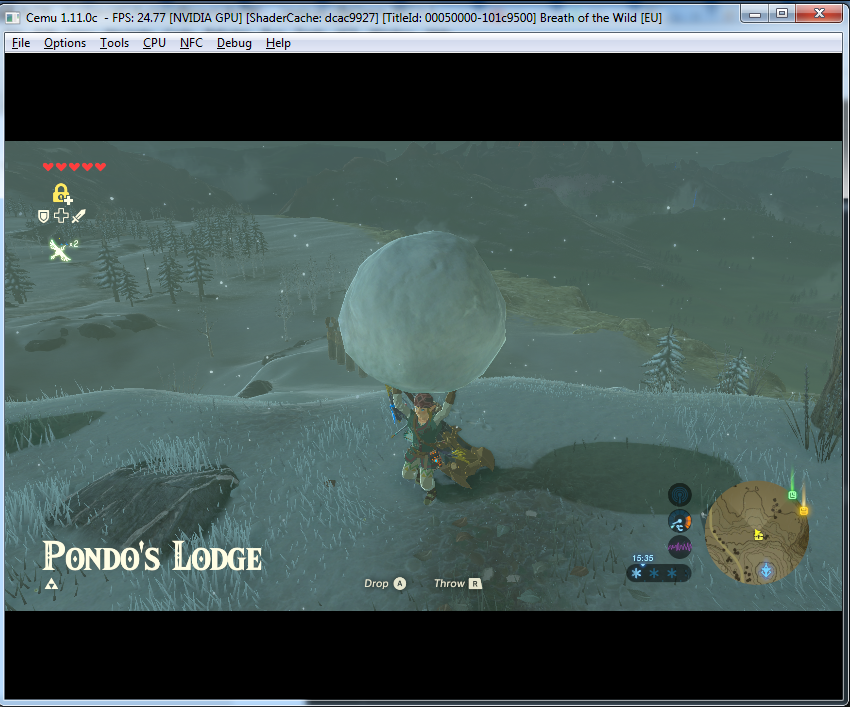link: (376, 379, 506, 501)
snowball: (335, 228, 515, 401)
